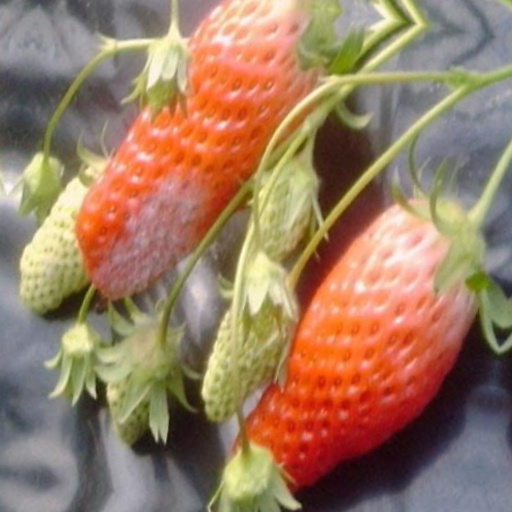Powdery Mildew Fruit: (90, 175, 212, 324)
